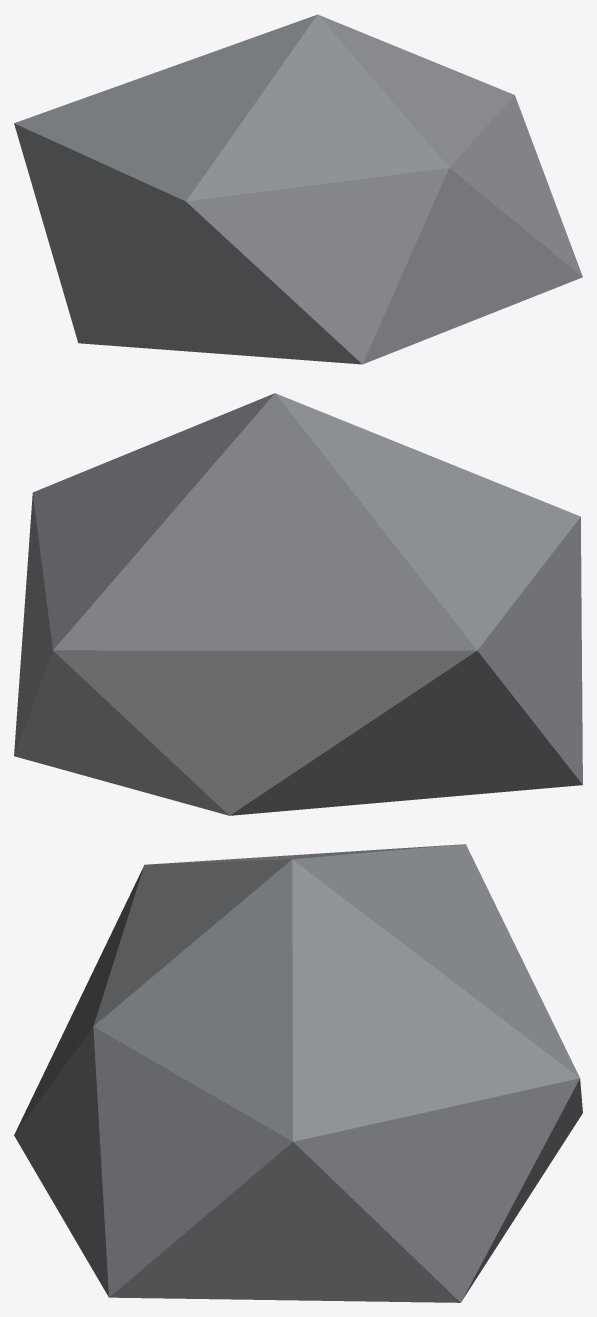
File: Stone.fbx
3 renders of one model, top to bottom at view 1: azimuth 30°, elevation 25°; view 2: azimuth 150°, elevation 25°; view 3: azimuth 270°, elevation 25°, orthographic. The views are drawn at different scales.
Visible parts, largest first — view 1: Stone; view 2: Stone; view 3: Stone.
Part boxes in pixels (bbox=[...]): Stone: bbox=[14, 14, 582, 364]; Stone: bbox=[14, 393, 582, 815]; Stone: bbox=[14, 844, 582, 1302].
Bounding box in the file's own units: 1.63 × 1 × 1.45.
1 material, 1 textured.
